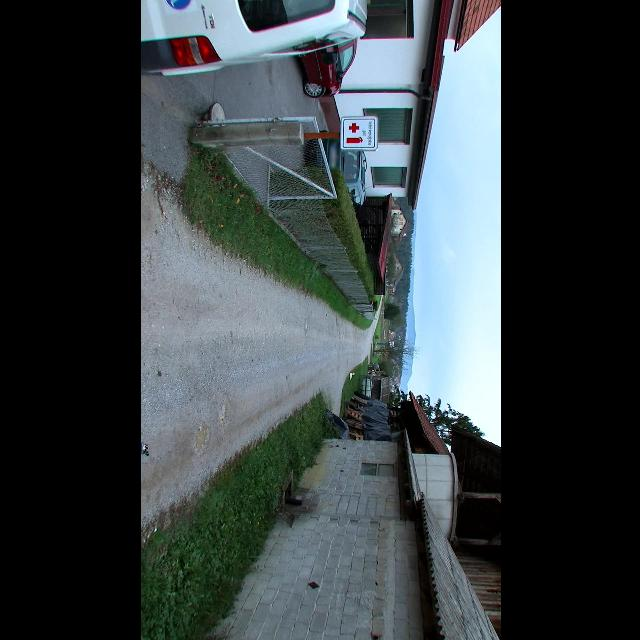Squared: (340, 117, 376, 151)
